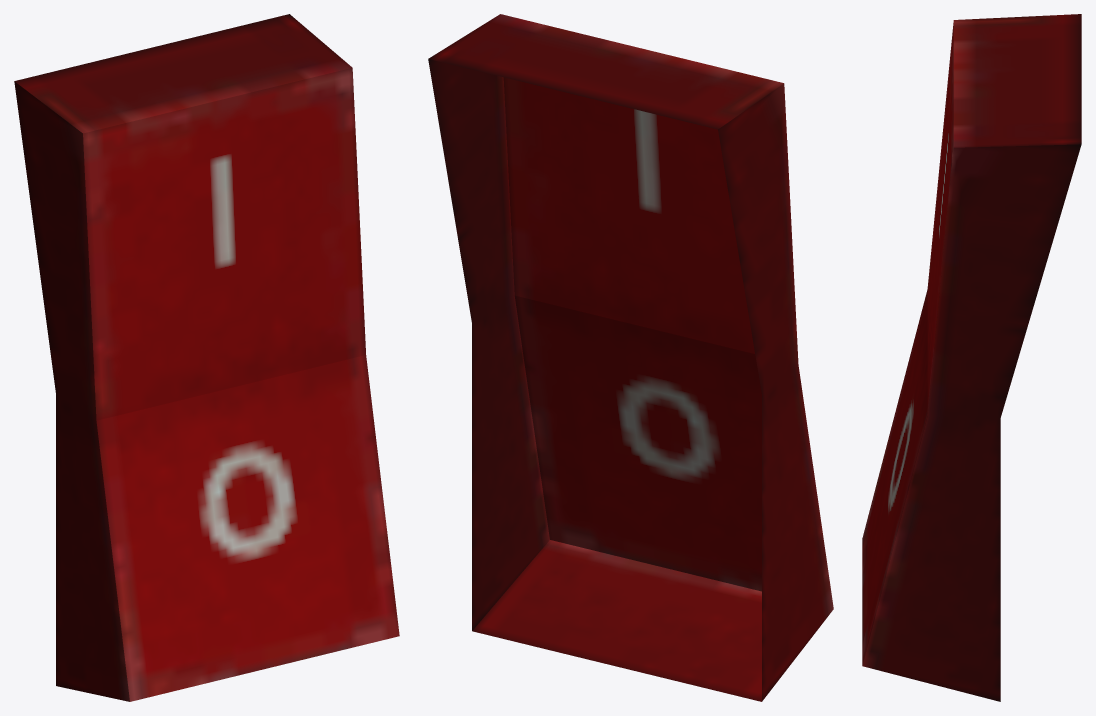
File: fuse_box_button.dae
3 views of the same model, side by side, from view 1: azimuth 30°, elevation 25°; view 2: azimuth 150°, elevation 25°; view 3: azimuth 270°, elevation 25° (orthographic). The views are drawn at different scales.
Visible parts, largest first — view 1: polySurface187; view 2: polySurface187; view 3: polySurface187.
Part boxes in pixels (bbox=[...]): polySurface187: bbox=[14, 14, 399, 701]; polySurface187: bbox=[428, 14, 833, 701]; polySurface187: bbox=[862, 14, 1081, 701].
Bounding box in the file's own units: 3.13 × 6.25 × 2.23.
Materials: 1 (1 with a texture image).
